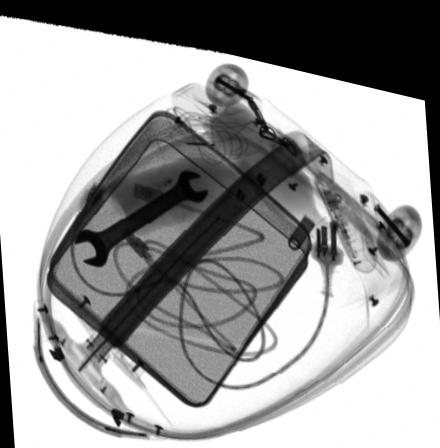Wrench: (74, 161, 209, 263)
